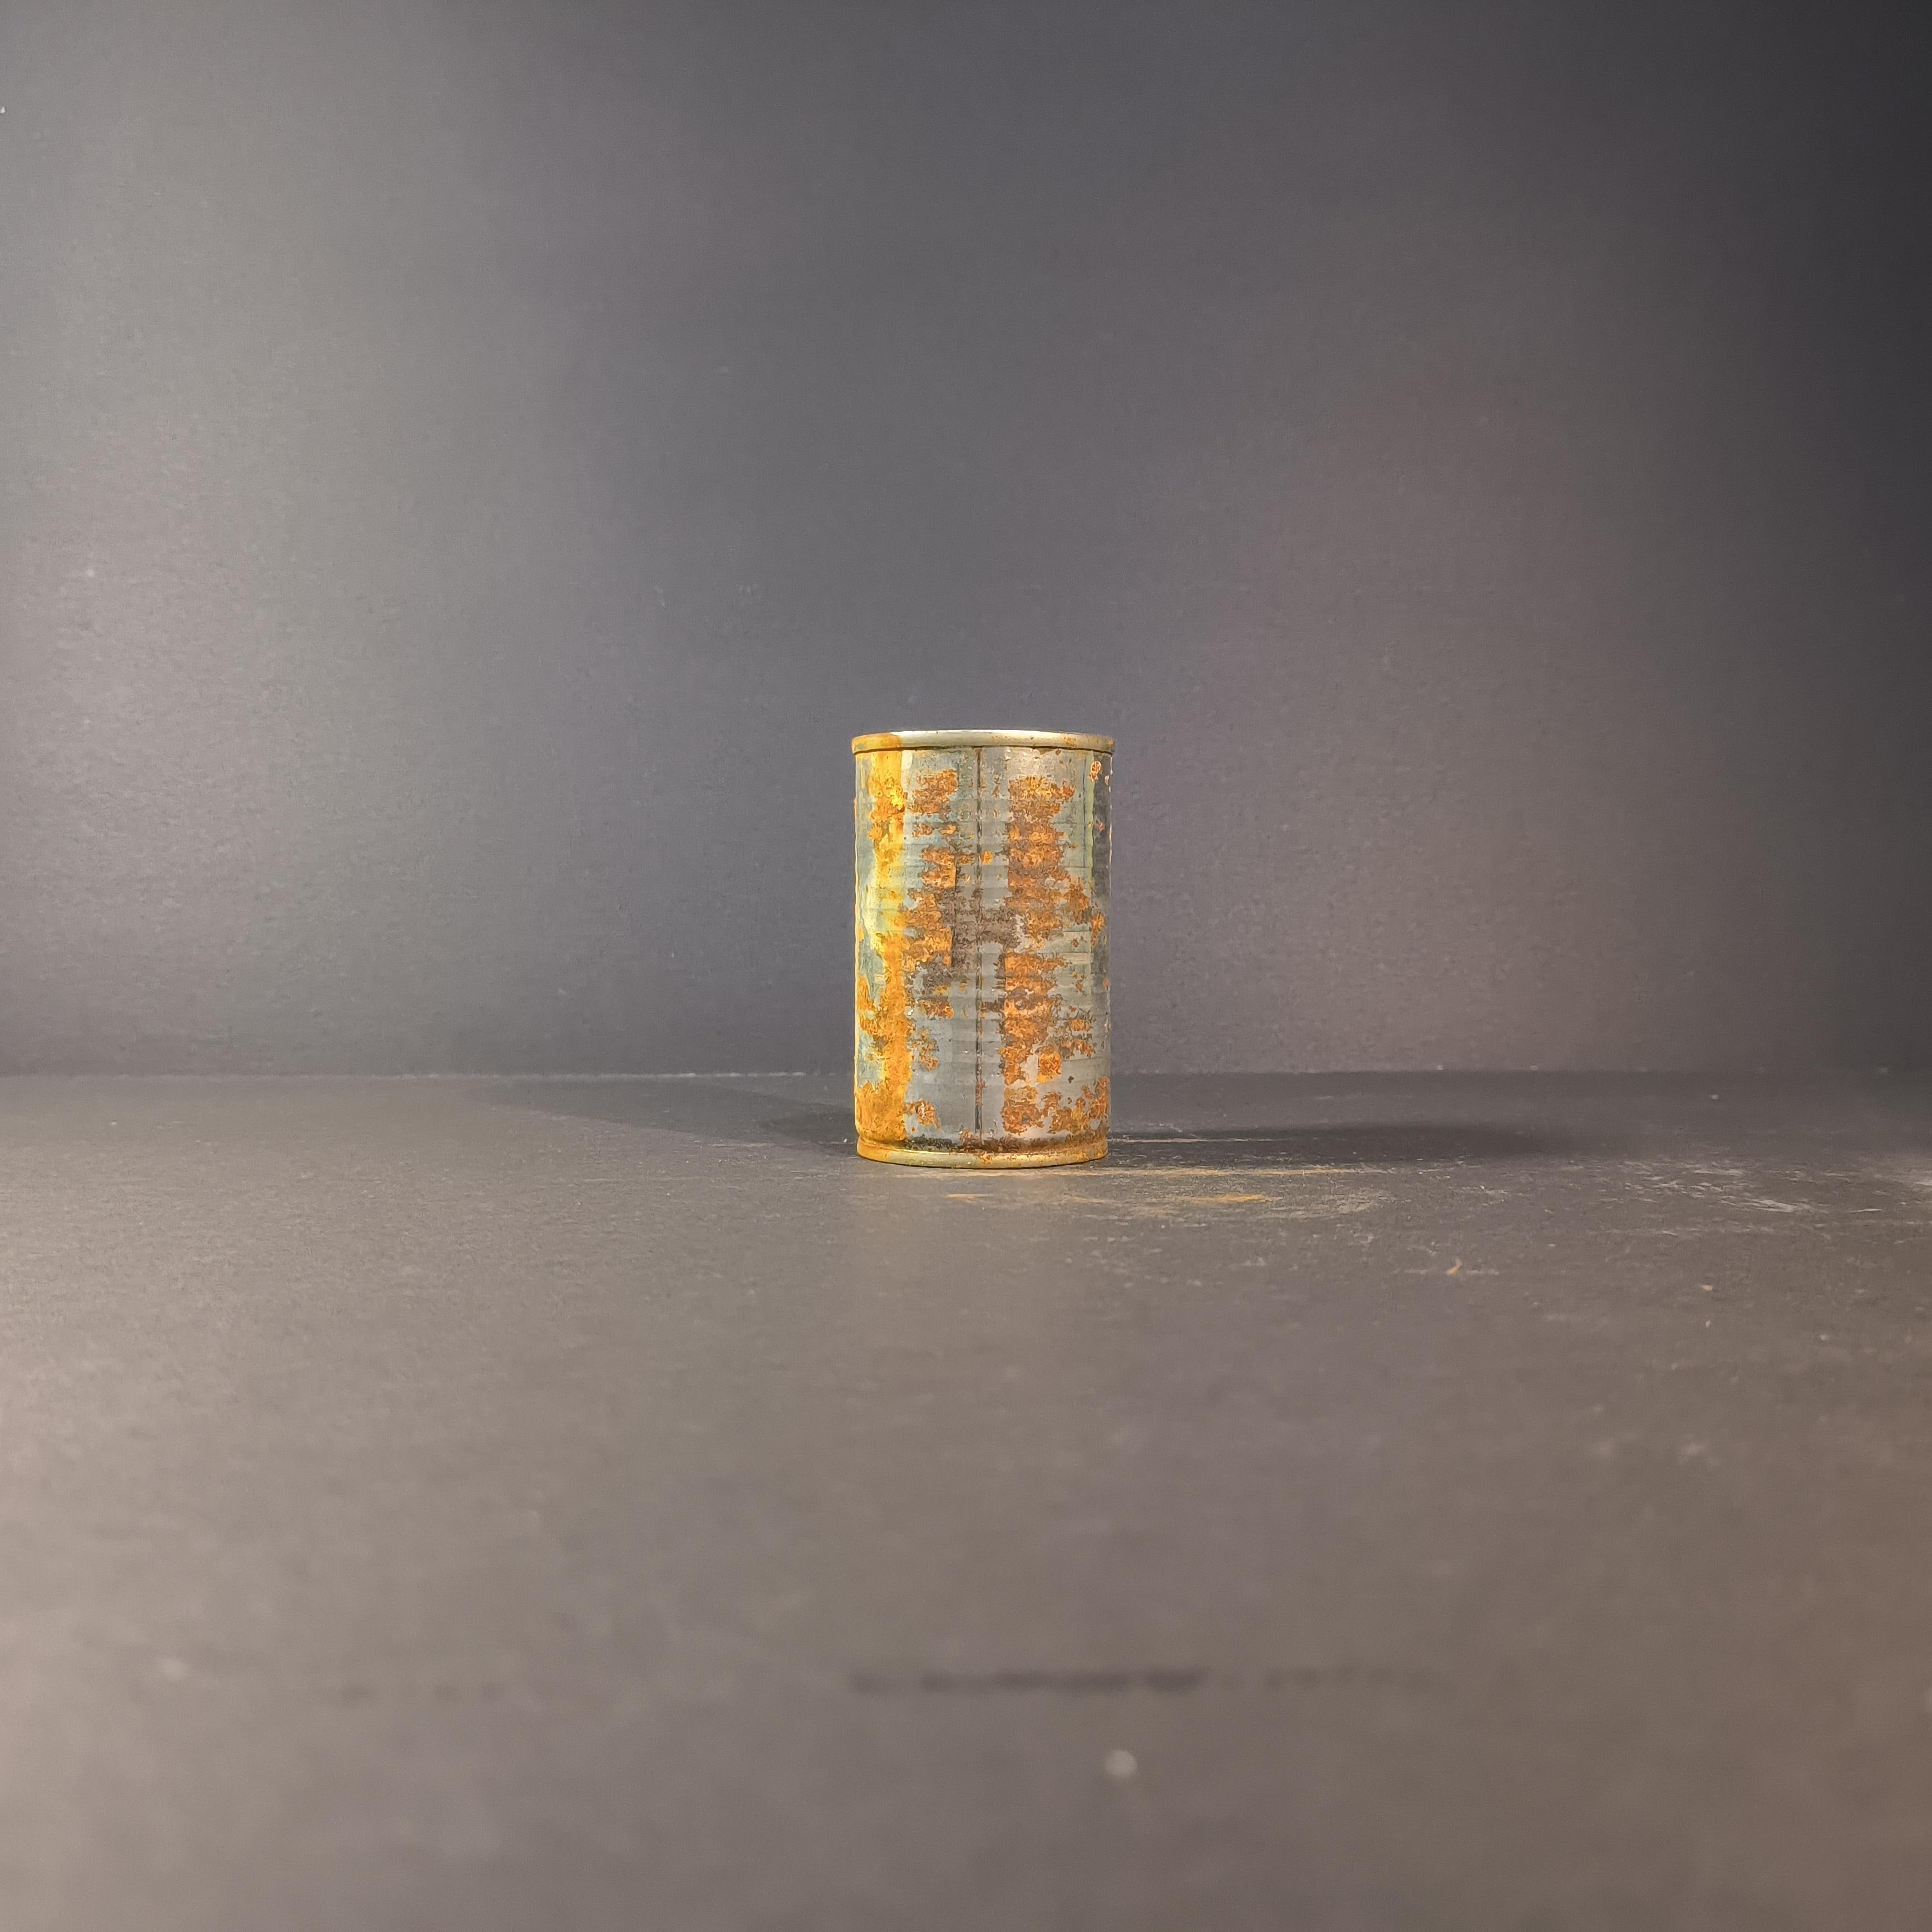Rusted: (835, 713, 1132, 1191)
